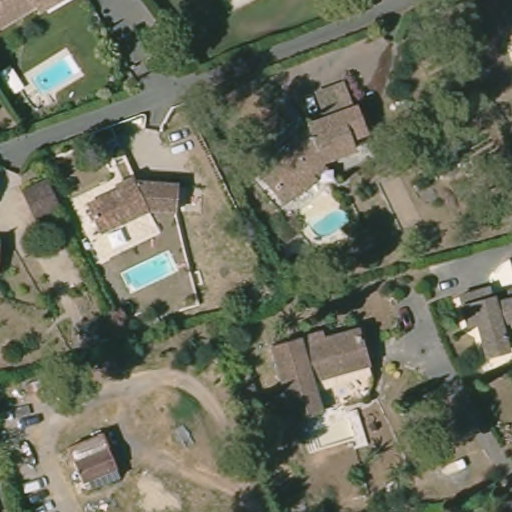pool: (121, 253, 176, 296), (27, 56, 85, 95), (306, 204, 355, 241)
